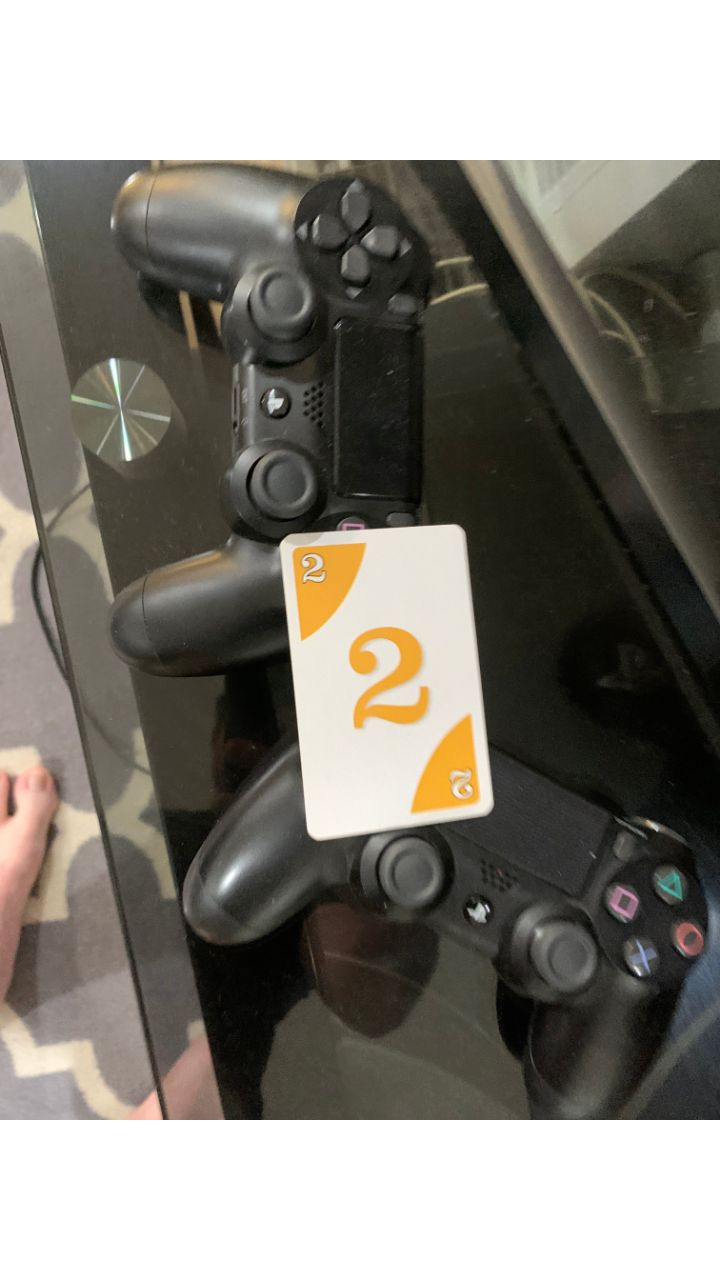two: (278, 522, 491, 841)
